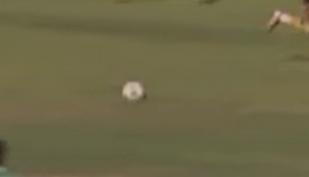ball: (119, 77, 150, 108)
